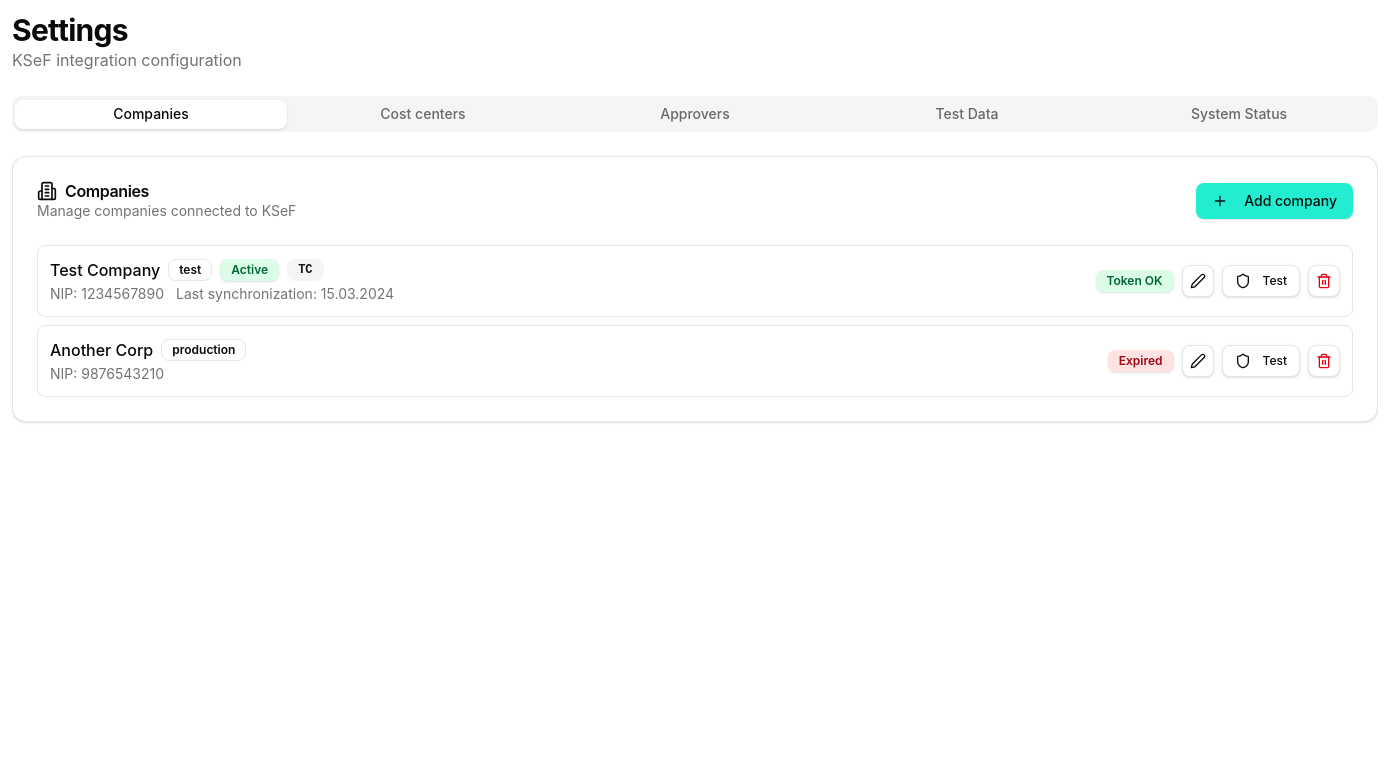
it: SettingsPage – Companies Tab › shows add company form when button is clicked
The width and height of the screenshot is (1390, 780).
Click the button "Add company". click: {"x": 1275, "y": 201}
box: [1196, 183, 1353, 219]
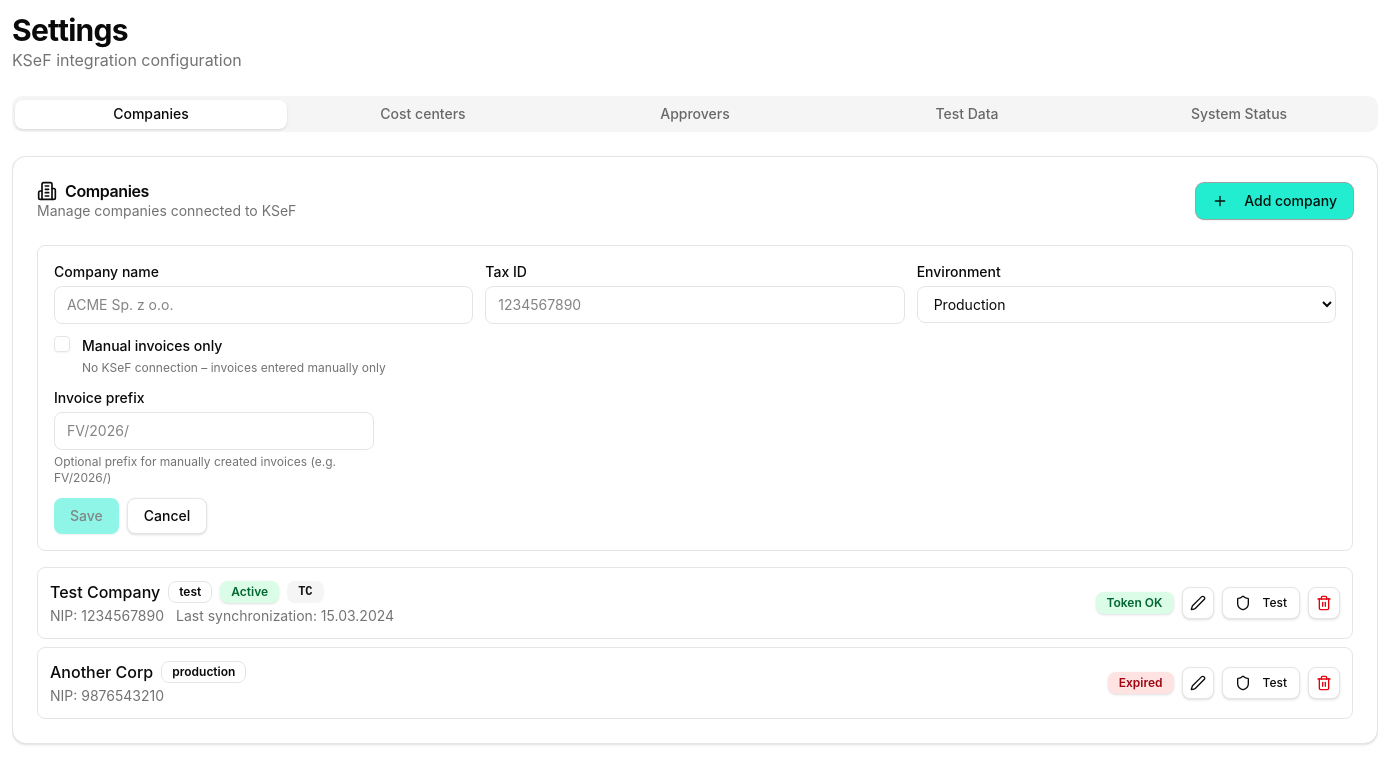
Now the field with placeholder "ACME Sp. z o.o." is shown, box [54, 286, 473, 324]
Now the field with placeholder "1234567890" is shown, box [485, 286, 905, 324]
